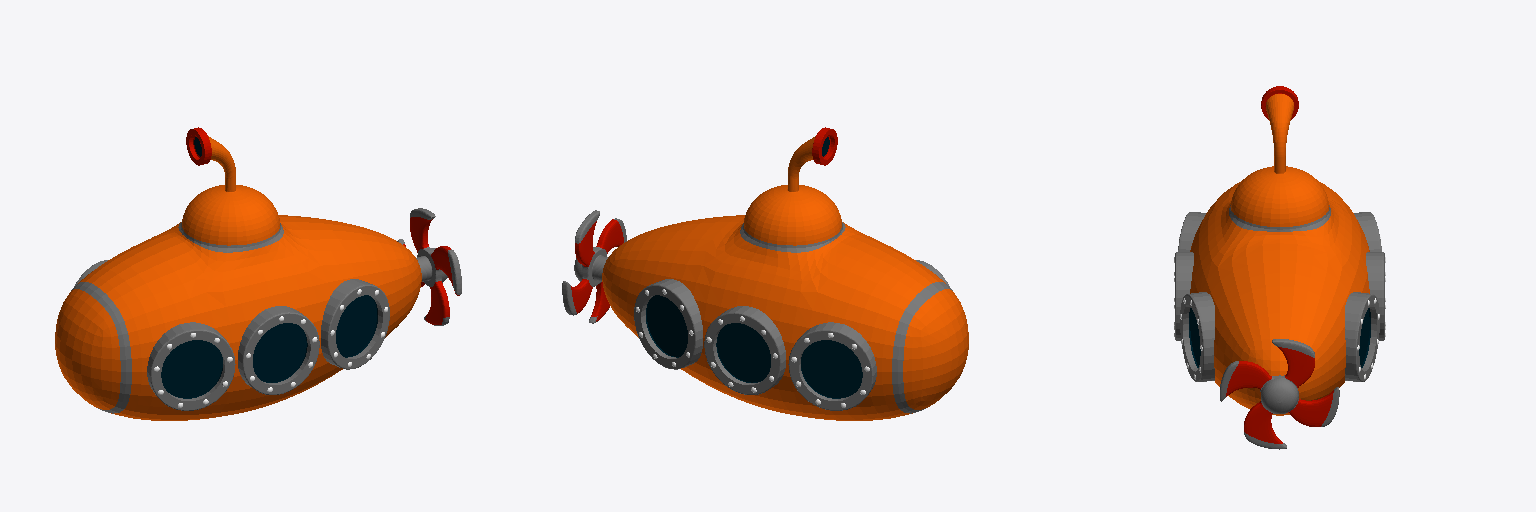
File: submarine.obj
3 renders of one model, left to right at view 1: azimuth 30°, elevation 25°; view 2: azimuth 150°, elevation 25°; view 3: azimuth 270°, elevation 25°, orthographic.
Visible parts, largest first — view 1: Cube, Cylinder.001, Circle.001; view 2: Cube, Cylinder.001, Circle.001; view 3: Cube, Cylinder.001, Circle.001.
Boxes of the visible parts, x1,y1,x2,y2 form: Cube: [55, 127, 421, 420]; Cylinder.001: [74, 260, 389, 410]; Circle.001: [397, 208, 461, 325]; Cube: [602, 127, 968, 420]; Cylinder.001: [634, 260, 949, 410]; Circle.001: [562, 210, 626, 323]; Cube: [1190, 86, 1369, 415]; Cylinder.001: [1174, 212, 1385, 381]; Circle.001: [1220, 339, 1339, 449].
Size of the model in its own units: 4.9 by 3.44 by 2.35.